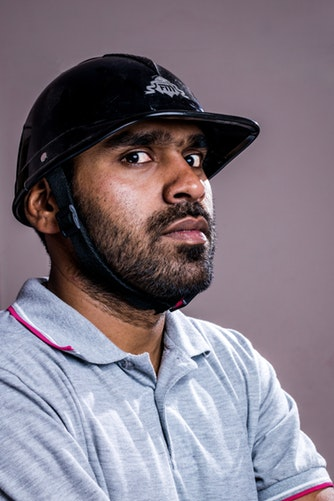helmet: (2, 49, 263, 177)
